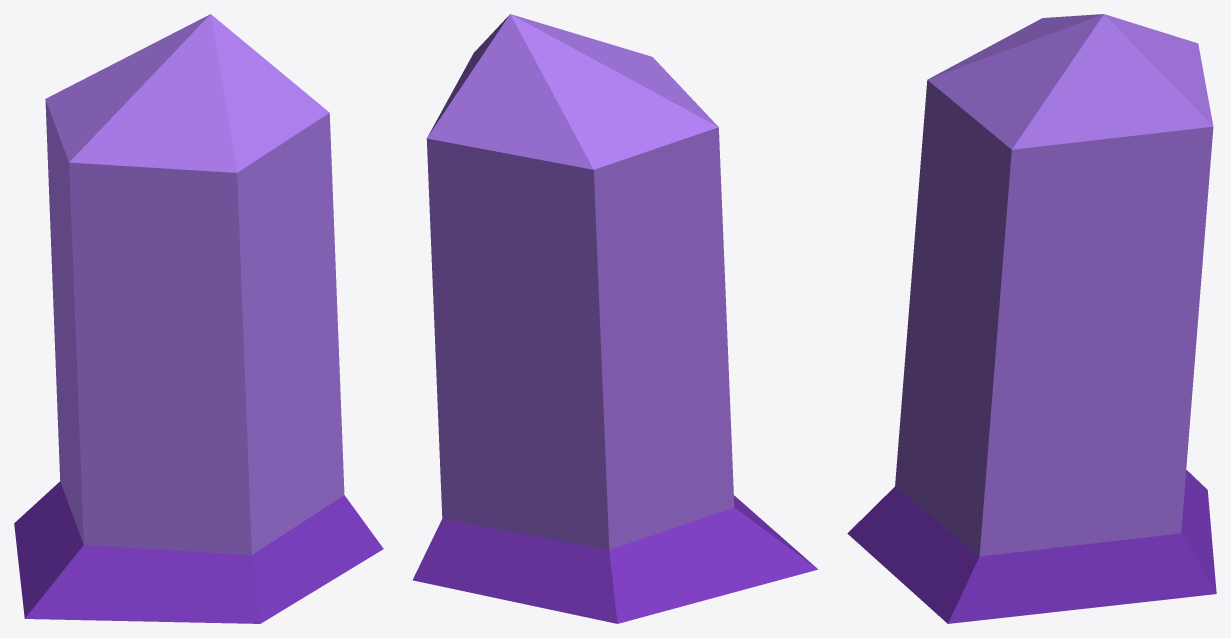
The model's file is crystal_straight_003_grp.fbx.
3 renders of one model, left to right at view 1: azimuth 30°, elevation 25°; view 2: azimuth 150°, elevation 25°; view 3: azimuth 270°, elevation 25°, orthographic. The views are drawn at different scales.
Parts seen in each view (by area): view 1: crystal_straight_003_grp; view 2: crystal_straight_003_grp; view 3: crystal_straight_003_grp.
Part boxes in pixels (<box>): crystal_straight_003_grp: <box>14,14,383,623</box>; crystal_straight_003_grp: <box>413,14,817,623</box>; crystal_straight_003_grp: <box>847,14,1216,623</box>.
Bounding box in the file's own units: 35 × 50 × 30.
